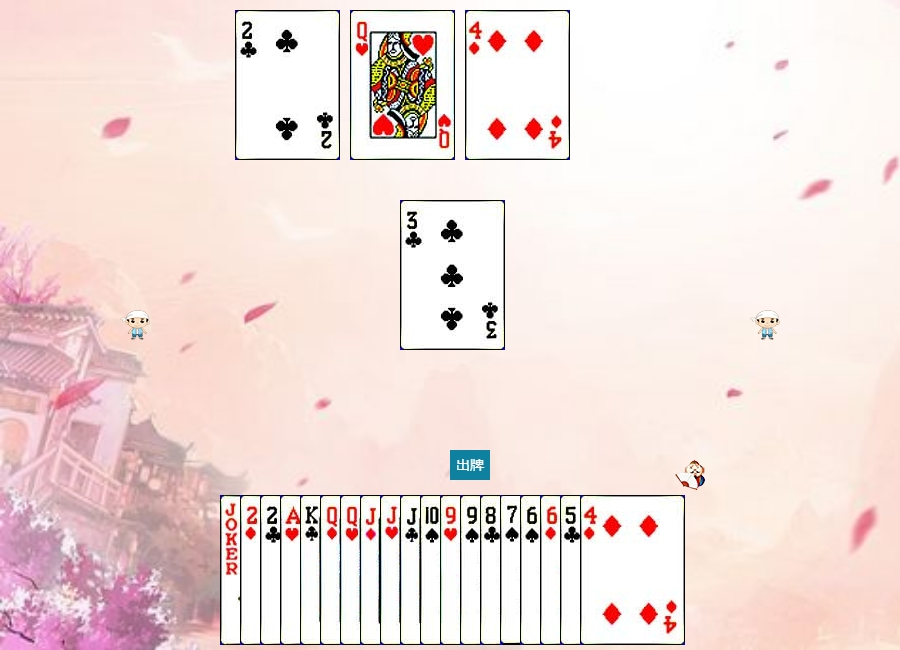10~4: (420, 495, 525, 645)
11~1: (360, 495, 465, 645)
11~2: (400, 495, 505, 645)
11~3: (380, 495, 485, 645)
12~1: (320, 495, 425, 645)
12~3: (350, 10, 455, 160), (340, 495, 445, 645)
13~2: (300, 495, 405, 645)
14~3: (280, 495, 385, 645)
15~1: (240, 495, 345, 645)
15~2: (235, 10, 340, 160), (260, 495, 365, 645)
18~4: (220, 495, 325, 645)
3~2: (400, 200, 505, 350)
4~1: (465, 10, 570, 160), (580, 495, 685, 645)
5~2: (560, 495, 665, 645)
6~1: (540, 495, 645, 645)
6~4: (520, 495, 625, 645)
7~4: (500, 495, 605, 645)
8~2: (480, 495, 585, 645)
9~3: (440, 495, 545, 645)
9~4: (460, 495, 565, 645)
